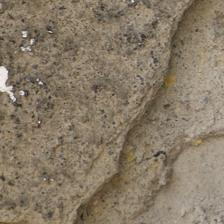Crack: (10, 45, 224, 132), (40, 56, 152, 165)
